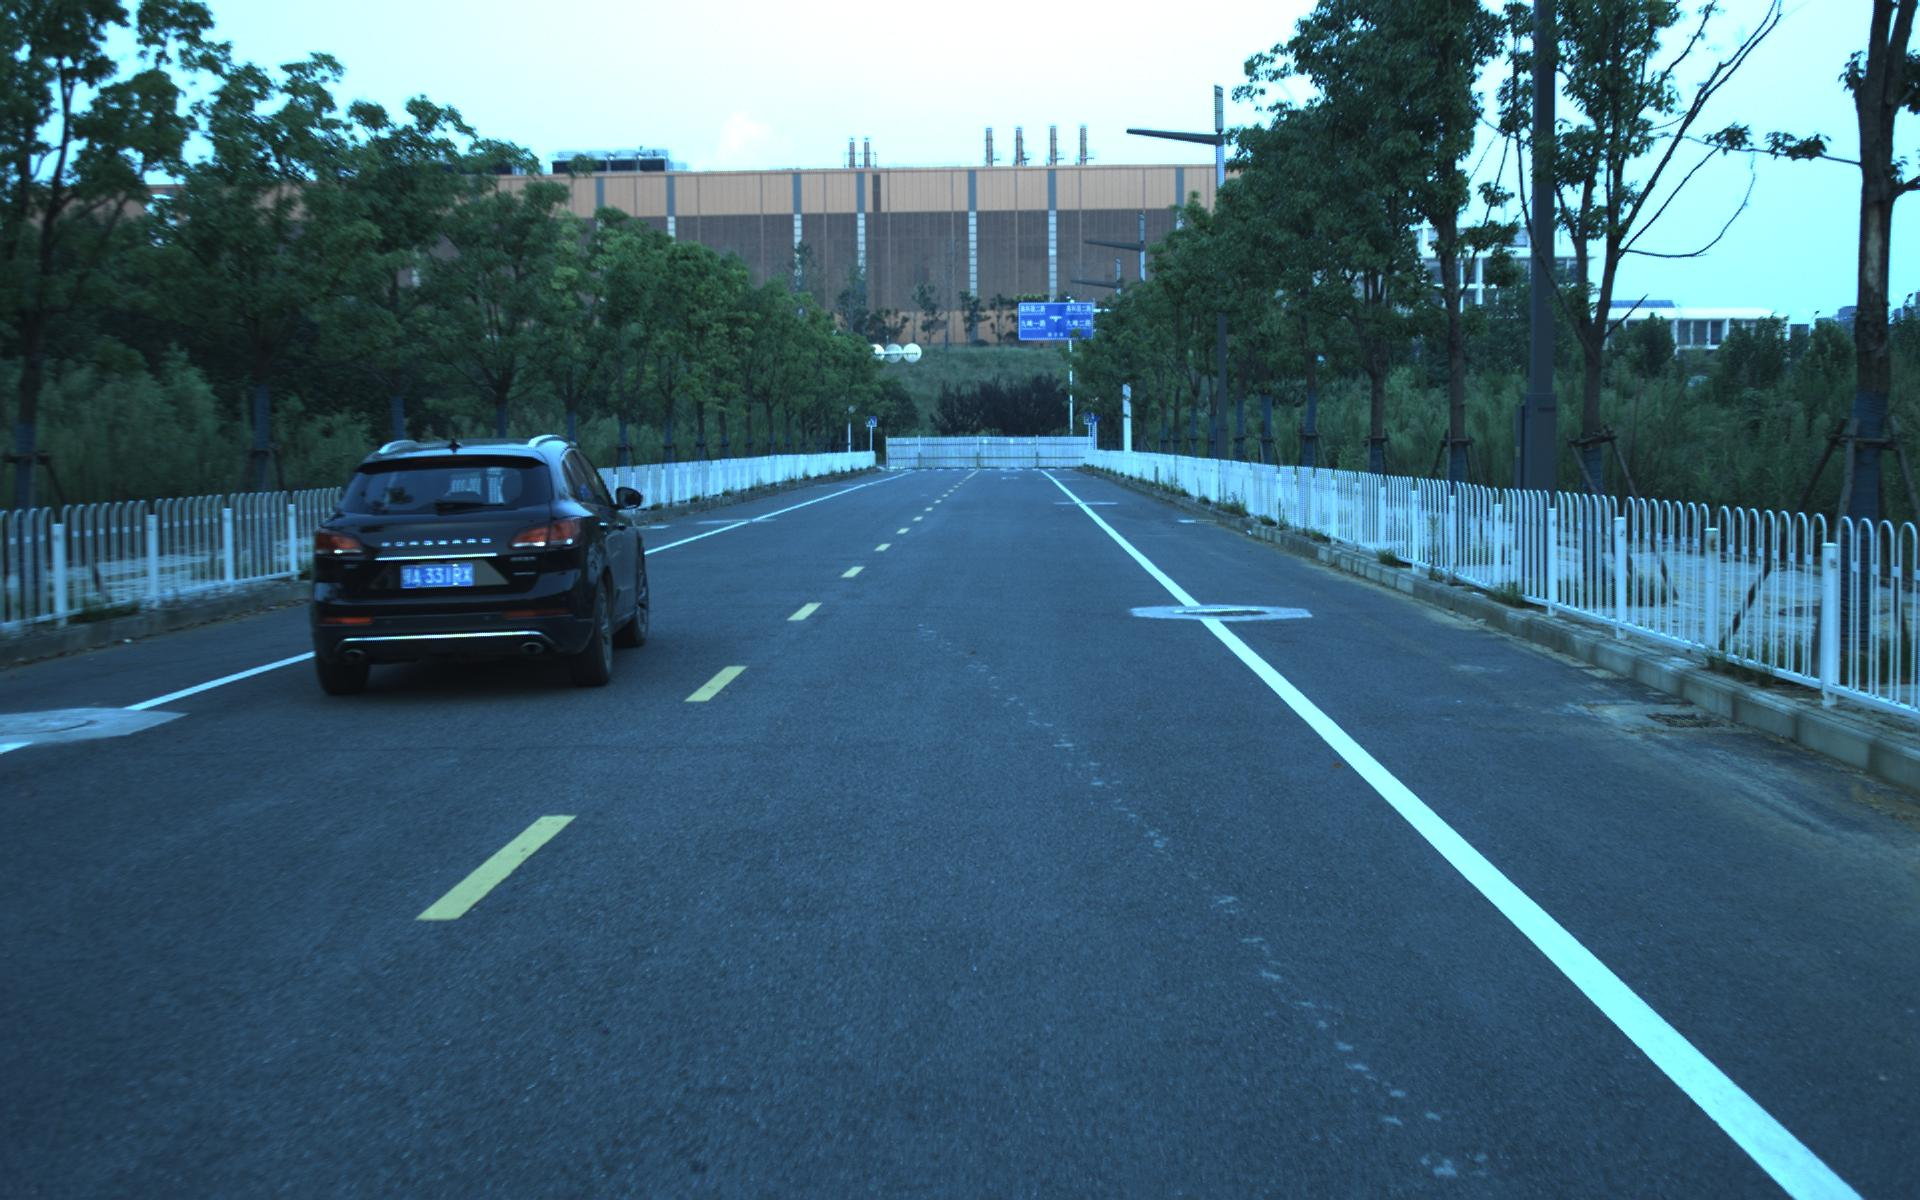Car: (293, 426, 654, 700)
